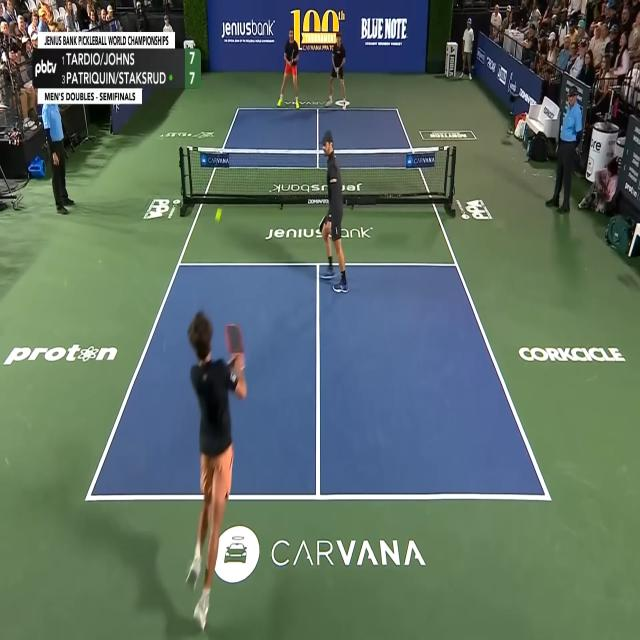ball: (215, 208, 222, 224)
